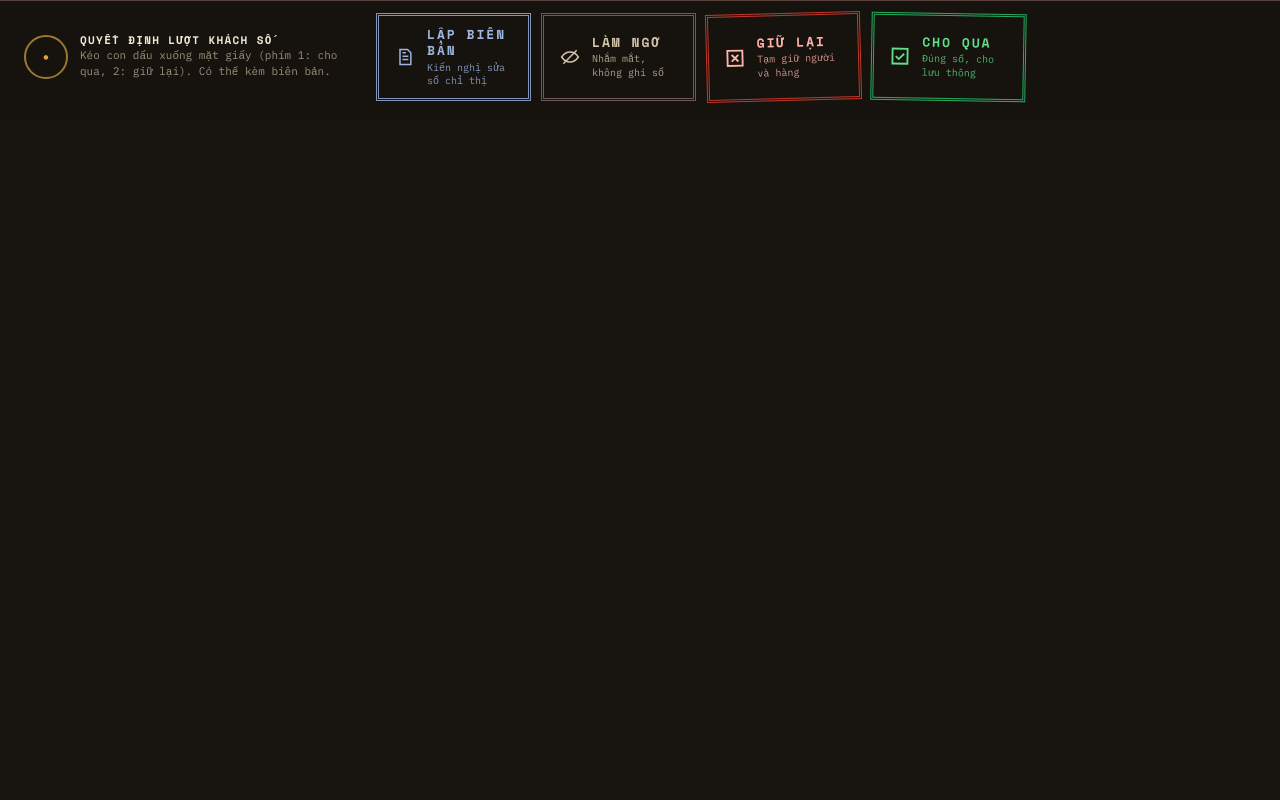
Test: UI tests (P6: UI-01 to UI-12) › UI-06 mở hộp lý do ở d3 hiện đủ lý do của mọi vấn đề đã mở và mỗi lý do đúng một lần
Click the button "LẬP BIÊN BẢN Kiến nghị sửa sổ chỉ thị": (454, 57) [376,13,531,101]
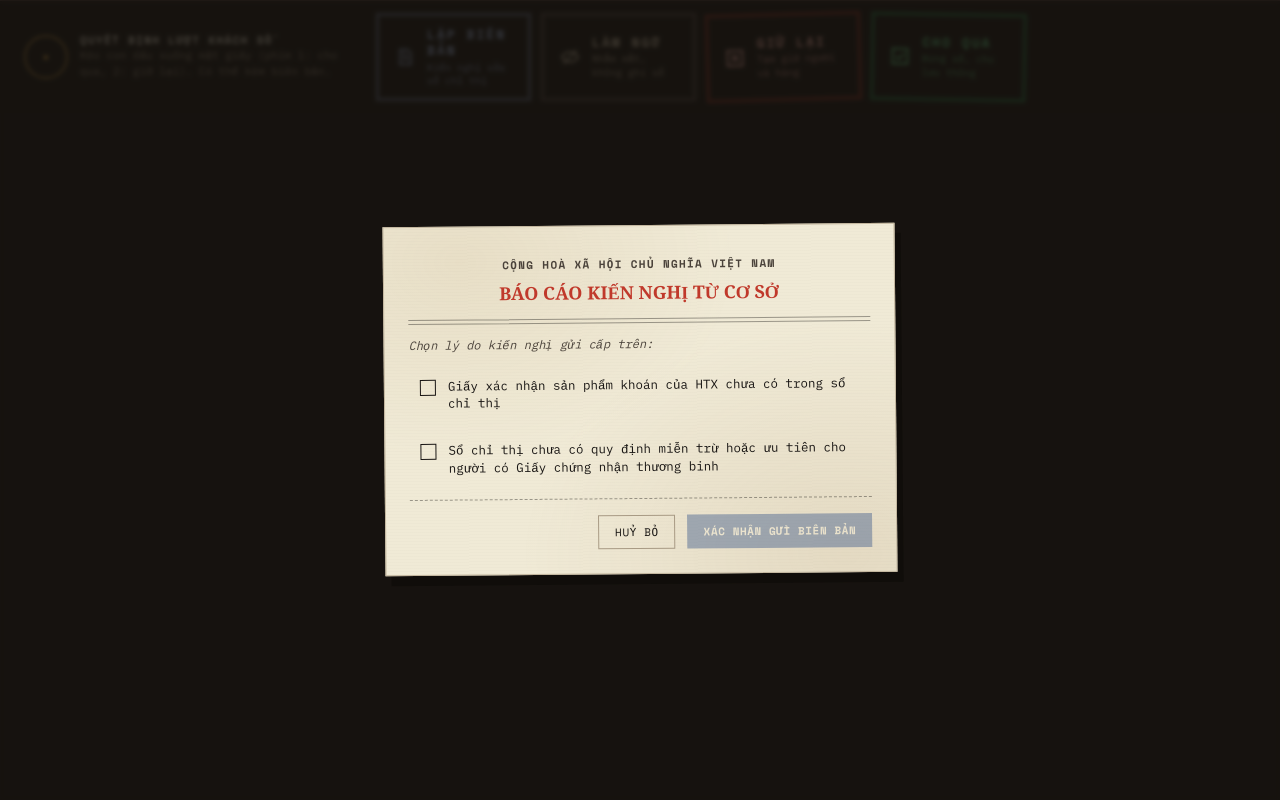
Now the text "Giấy xác nhận sản phẩm khoán của HTX chưa có trong sổ chỉ thị" is shown once, box [448,375,848,412]
Now the text "Sổ chỉ thị chưa có quy định miễn trừ hoặc ưu tiên cho người có Giấy chứng nhận thương binh" is shown once, box [448,439,849,477]
